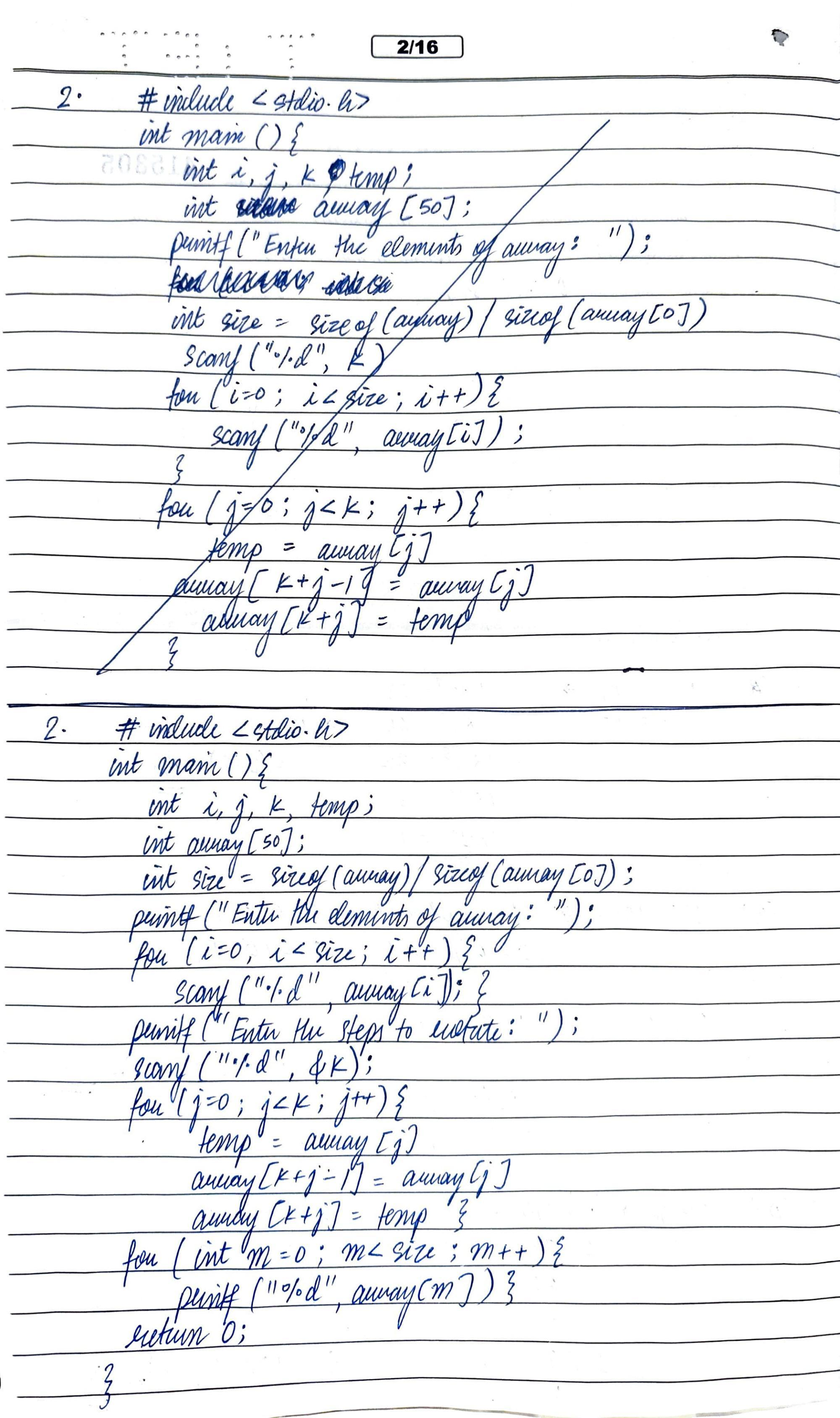cuttings: (88, 81, 708, 683)
